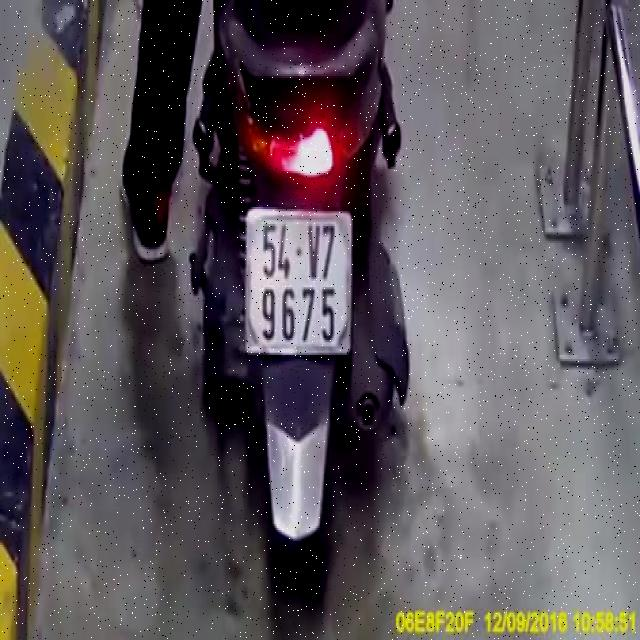4: (278, 224, 296, 282)
5: (318, 287, 338, 345), (262, 223, 277, 284)
6: (281, 287, 296, 342)
7: (322, 224, 337, 280), (301, 287, 316, 342)
9: (259, 289, 277, 341)
V: (307, 223, 320, 280)
